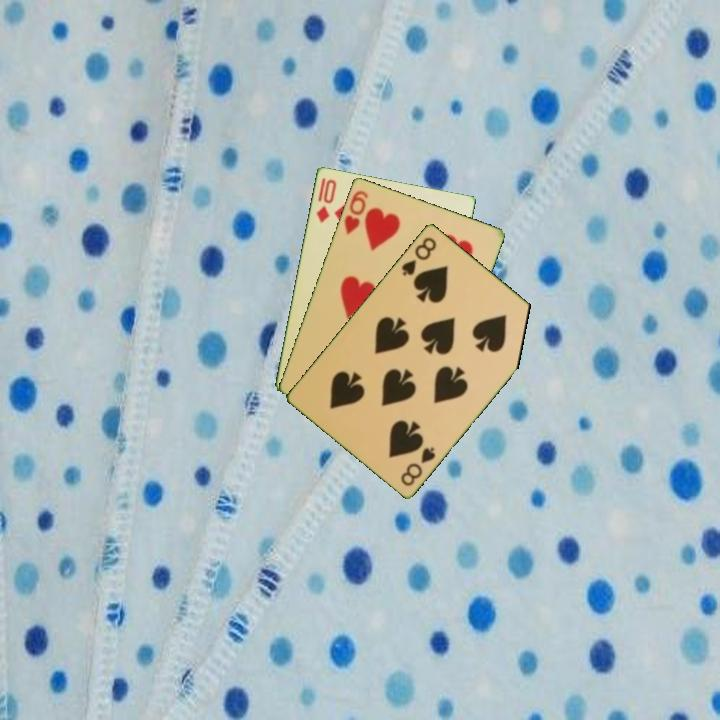10d: (312, 175, 339, 225)
6h: (340, 187, 371, 237)
8s: (397, 443, 439, 489), (398, 233, 439, 279)
